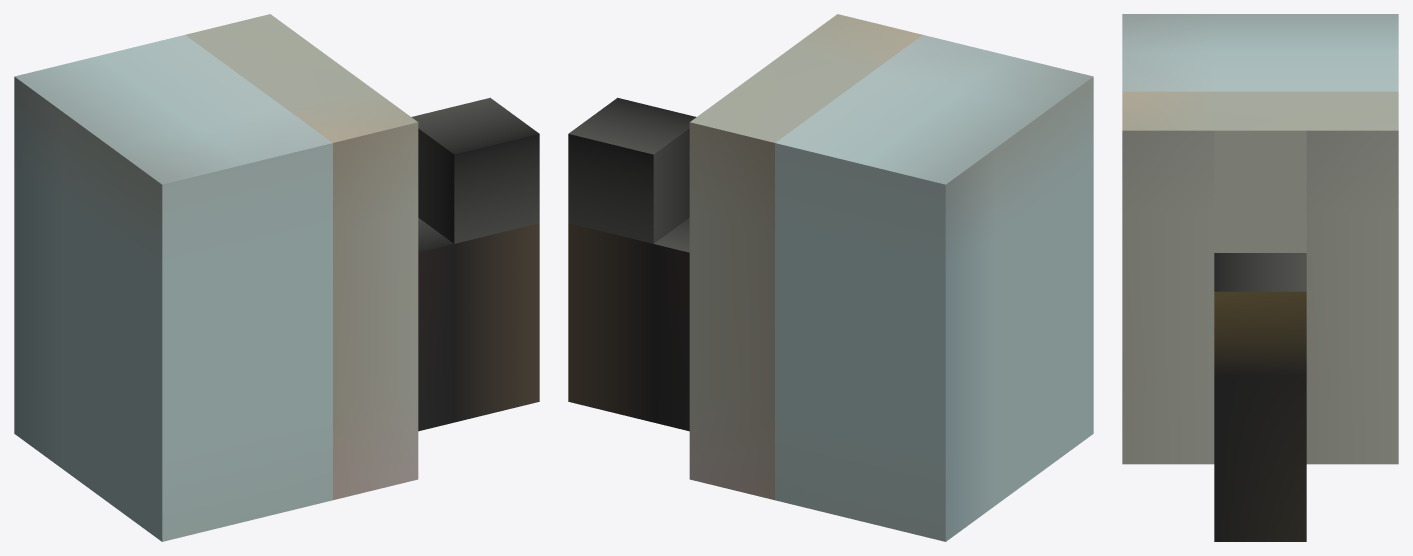
File: LampHangingSmall_08.fbx
The picture shows the model from 3 angles, left to right: view 1: azimuth 30°, elevation 25°; view 2: azimuth 150°, elevation 25°; view 3: azimuth 270°, elevation 25°; orthographic projection. The views are drawn at different scales.
Visible parts, largest first — view 1: LampHangingSmall_08; view 2: LampHangingSmall_08; view 3: LampHangingSmall_08.
Boxes of the visible parts, <box> form: LampHangingSmall_08: <box>14,14,539,541</box>; LampHangingSmall_08: <box>568,14,1093,541</box>; LampHangingSmall_08: <box>1122,14,1398,541</box>.
Size of the model in its own units: 25 by 15 by 20.
Materials: 2 (2 with a texture image).
